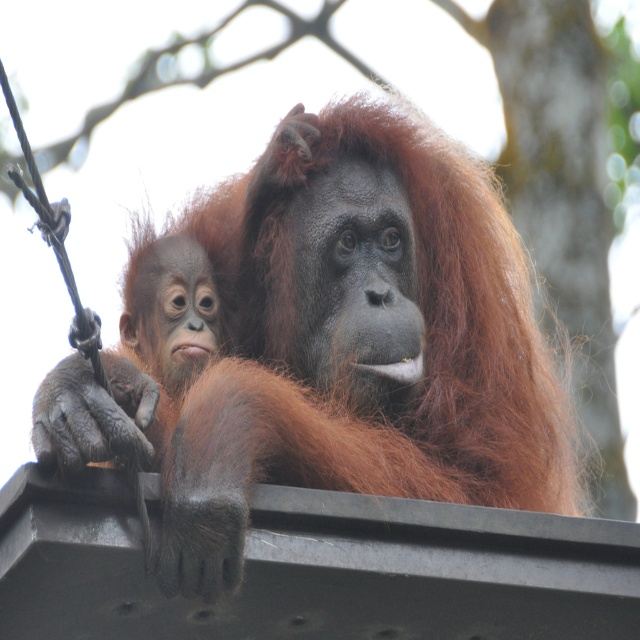Monkey: (118, 223, 244, 412)
